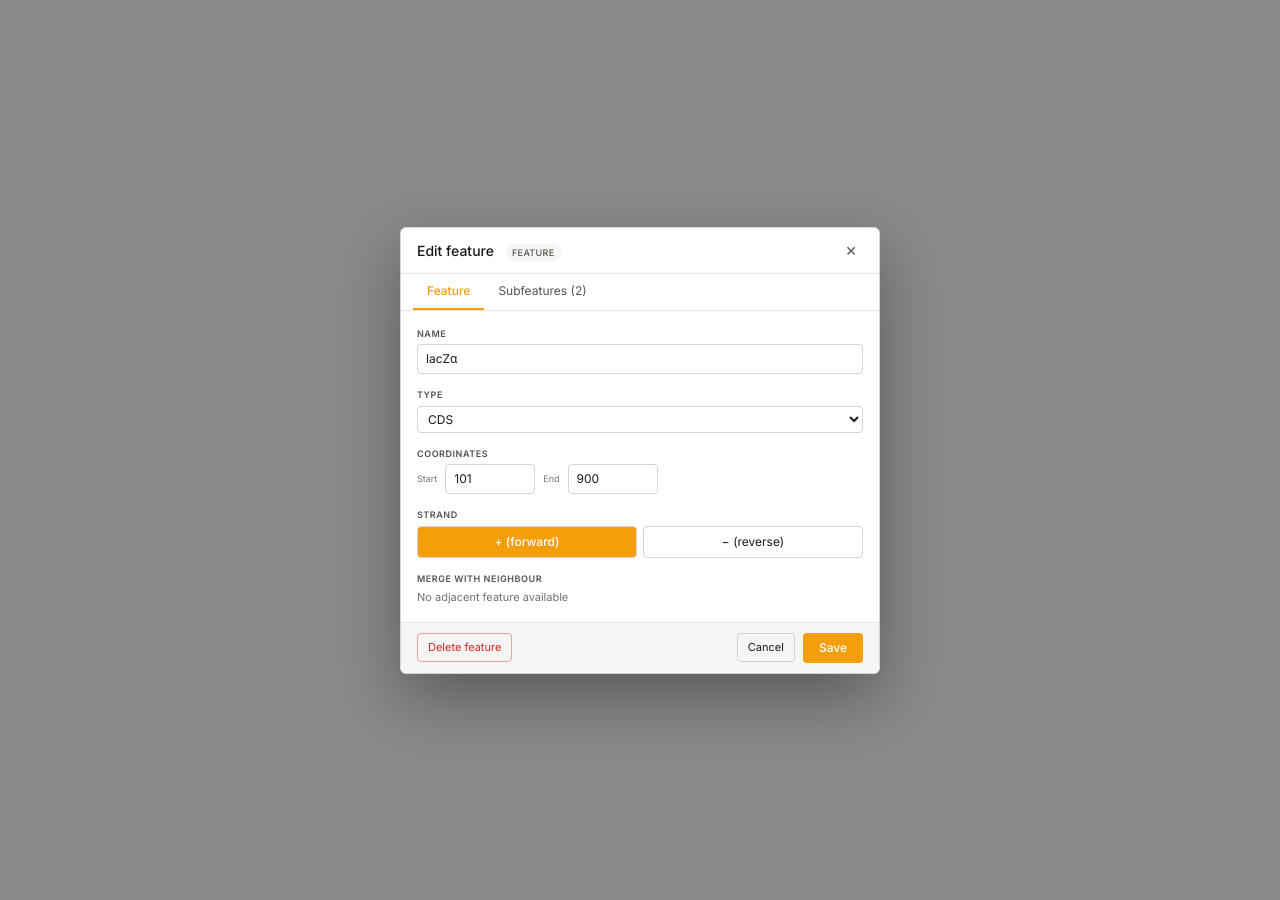
Test: FeatureEditorModal — Split sub-features / Merge / Delete › Pre-existing detail-level annotations under the parent show up as sub-feature rows on open
Click the button with test id "feature-editor-tab-subfeatures": (542, 292) top-left (484, 274), bottom-right (601, 310)
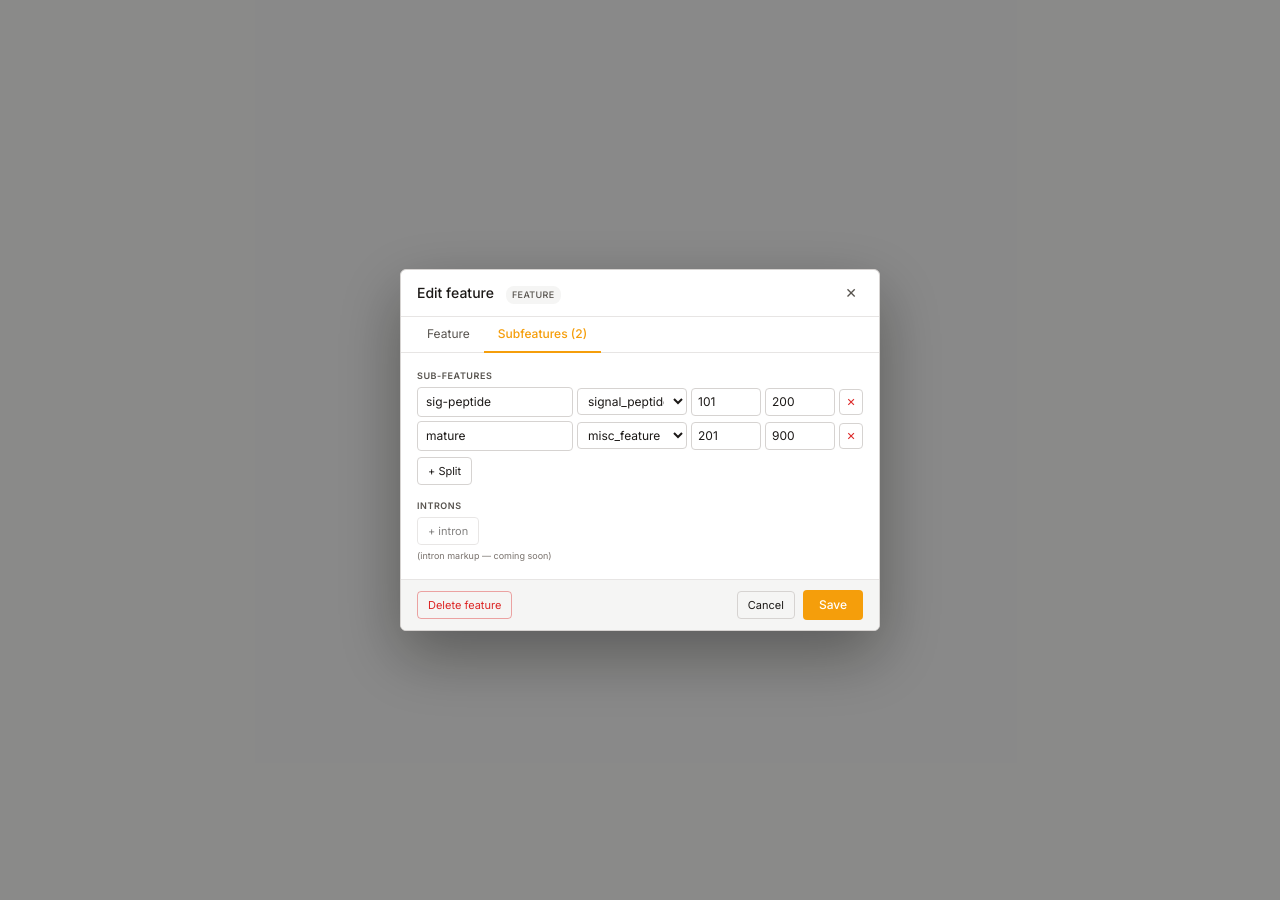
Expected: the number of elements with test id "feature-editor-subfeature-row" is 2, top-left (417, 387), bottom-right (863, 417); top-left (417, 421), bottom-right (863, 451)
